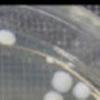white: (52, 70, 73, 94), (73, 80, 91, 100), (0, 30, 16, 49), (42, 90, 64, 100)
